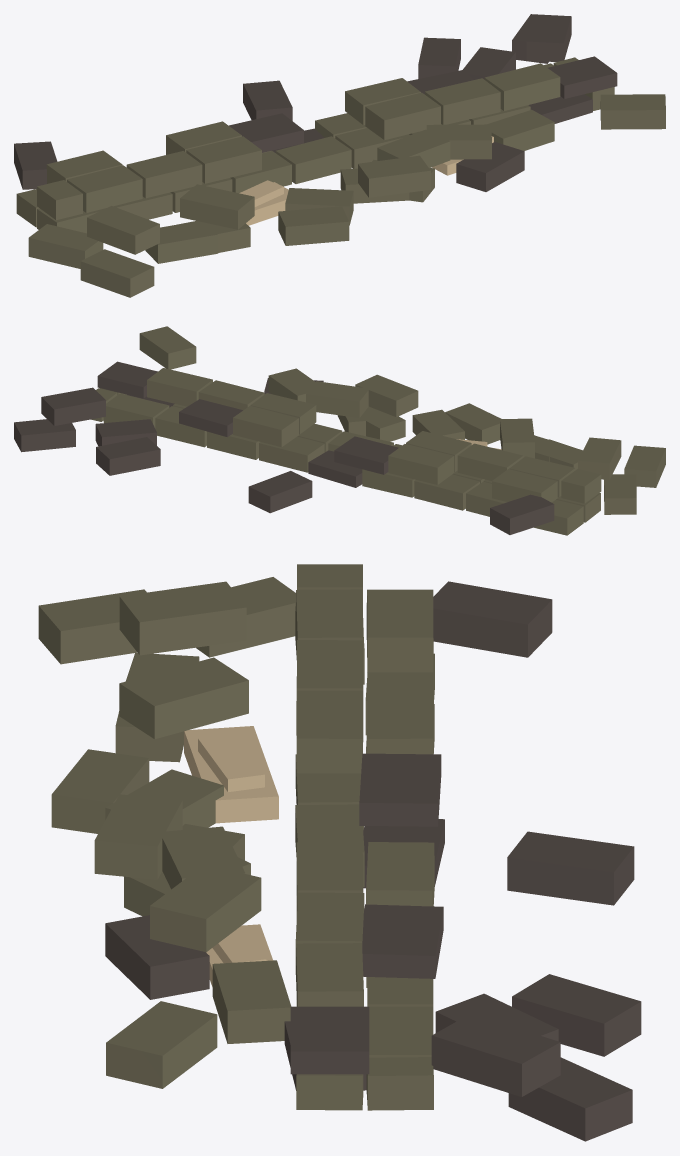
File: SM_MuroSacos_v0_Recto_e2_MuyDanado_LOD0.fbx
3 renders of one model, top to bottom at view 1: azimuth 30°, elevation 25°; view 2: azimuth 150°, elevation 25°; view 3: azimuth 270°, elevation 25°, orthographic. The views are drawn at different scales.
Visible parts, largest first — view 1: SM_bloques.muro_sacos_estados_v2_LOD0; view 2: SM_bloques.muro_sacos_estados_v2_LOD0; view 3: SM_bloques.muro_sacos_estados_v2_LOD0.
Part boxes in pixels (x1=…): SM_bloques.muro_sacos_estados_v2_LOD0: x1=14, y1=14, x2=665, y2=297; SM_bloques.muro_sacos_estados_v2_LOD0: x1=14, y1=326, x2=665, y2=535; SM_bloques.muro_sacos_estados_v2_LOD0: x1=38, y1=564, x2=641, y2=1141.
Bounding box in the file's own units: 8.94 × 0.585 × 4.29.
